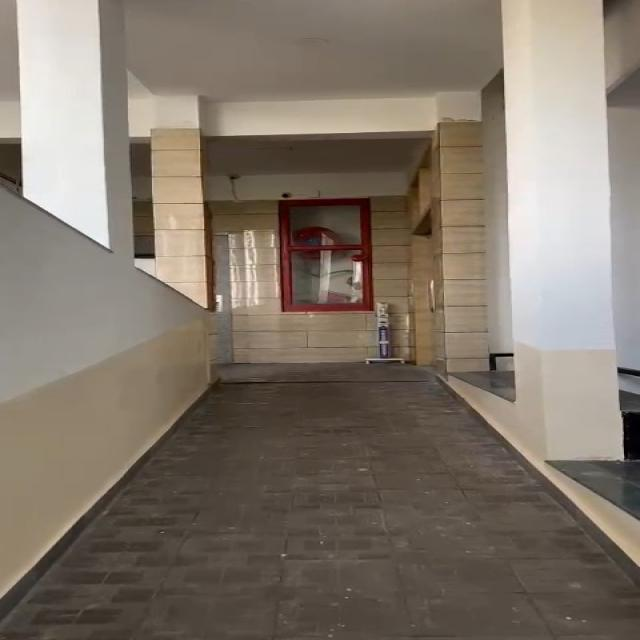door: (260, 180, 413, 322)
floor: (208, 383, 534, 640)
wall: (446, 2, 640, 510), (25, 2, 204, 417)
